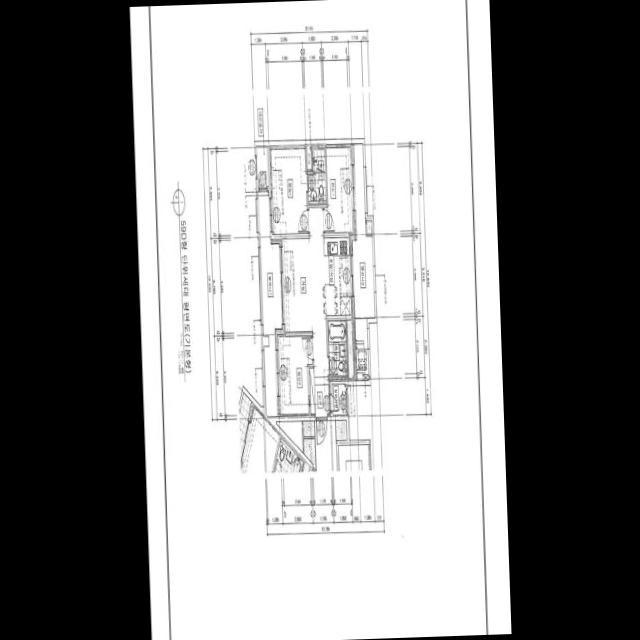background: (129, 0, 511, 640)
space_balconi: (257, 190, 281, 416), (352, 143, 374, 380)
space_bedroom: (269, 144, 307, 234), (277, 333, 312, 416), (324, 143, 354, 235)
space_front: (309, 376, 330, 416)
space_kitchen: (323, 237, 352, 315)
space_living_room: (271, 207, 327, 377)
space_other: (314, 420, 336, 471), (275, 421, 302, 452), (338, 444, 368, 471), (256, 146, 268, 186), (346, 320, 354, 378), (303, 438, 315, 470), (335, 420, 346, 440), (302, 421, 314, 436), (306, 143, 311, 169), (366, 220, 372, 233)
space_outdoor_room: (331, 384, 346, 415)
space_toilet: (327, 321, 346, 375), (307, 149, 325, 203)
